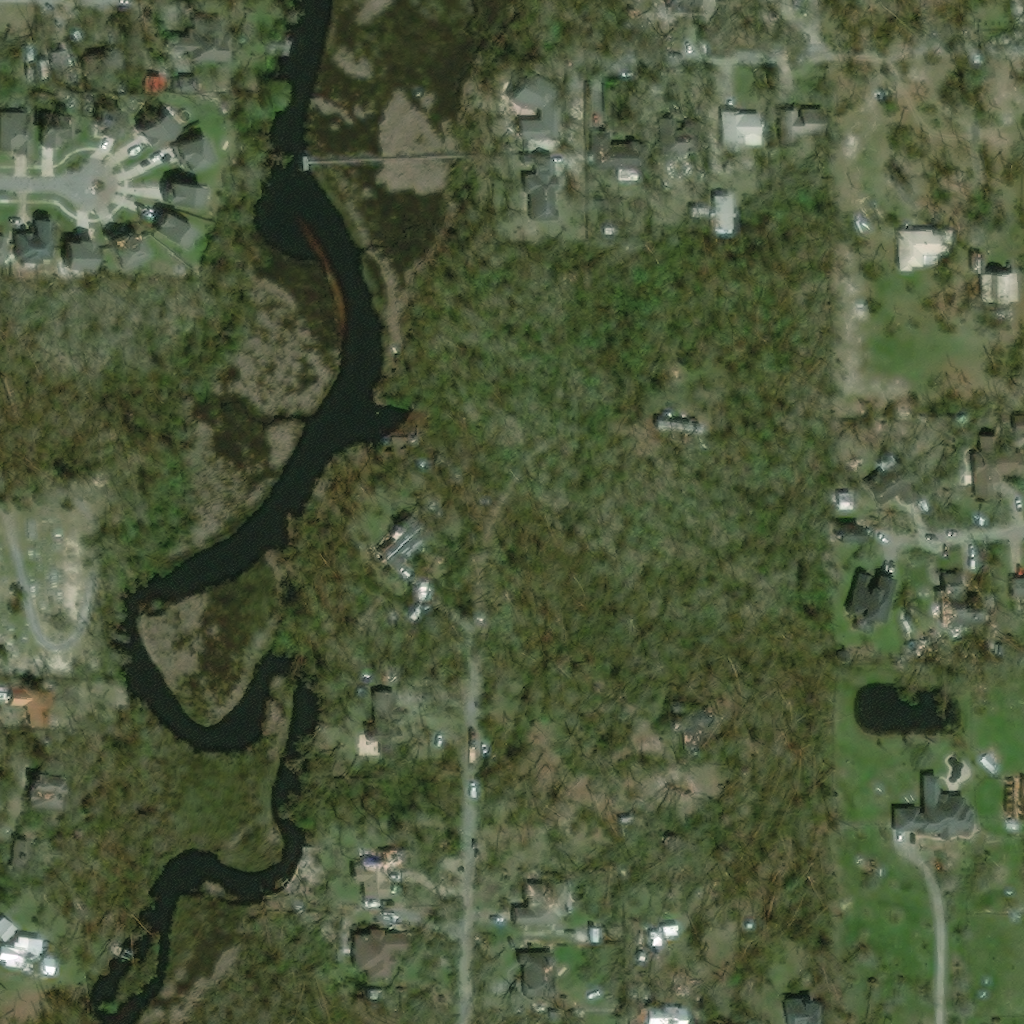minor_damage: (515, 885, 570, 924), (352, 848, 393, 900), (104, 228, 148, 269), (378, 517, 419, 560)
no_damage: (894, 773, 974, 838), (509, 68, 575, 137), (165, 16, 227, 61), (848, 569, 898, 624), (0, 934, 53, 978), (899, 228, 953, 271), (15, 217, 54, 269), (523, 150, 555, 211), (145, 207, 192, 247), (978, 433, 1023, 473), (721, 110, 761, 152), (167, 131, 210, 169), (135, 108, 175, 147), (7, 687, 46, 726), (58, 236, 91, 277), (35, 110, 70, 147), (158, 178, 204, 206), (0, 110, 29, 153), (351, 929, 384, 965), (715, 193, 741, 232), (983, 271, 1016, 301), (91, 106, 121, 137), (649, 922, 680, 950), (779, 108, 807, 137), (1005, 777, 1023, 822), (647, 1005, 688, 1023), (784, 1000, 814, 1023), (0, 914, 18, 943), (987, 747, 1008, 771), (1010, 576, 1023, 594), (837, 525, 853, 538)
